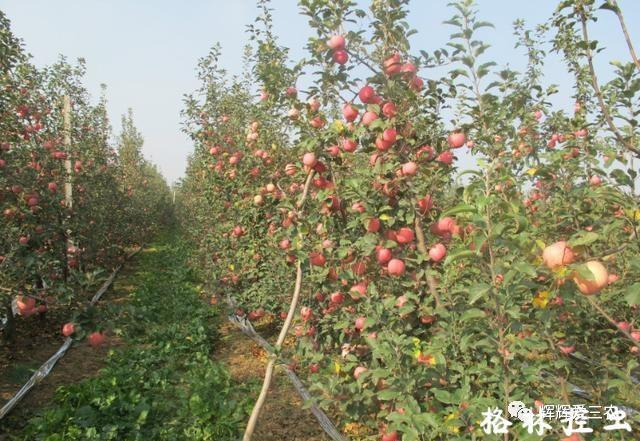apple: (575, 261, 609, 295), (542, 240, 575, 270)
